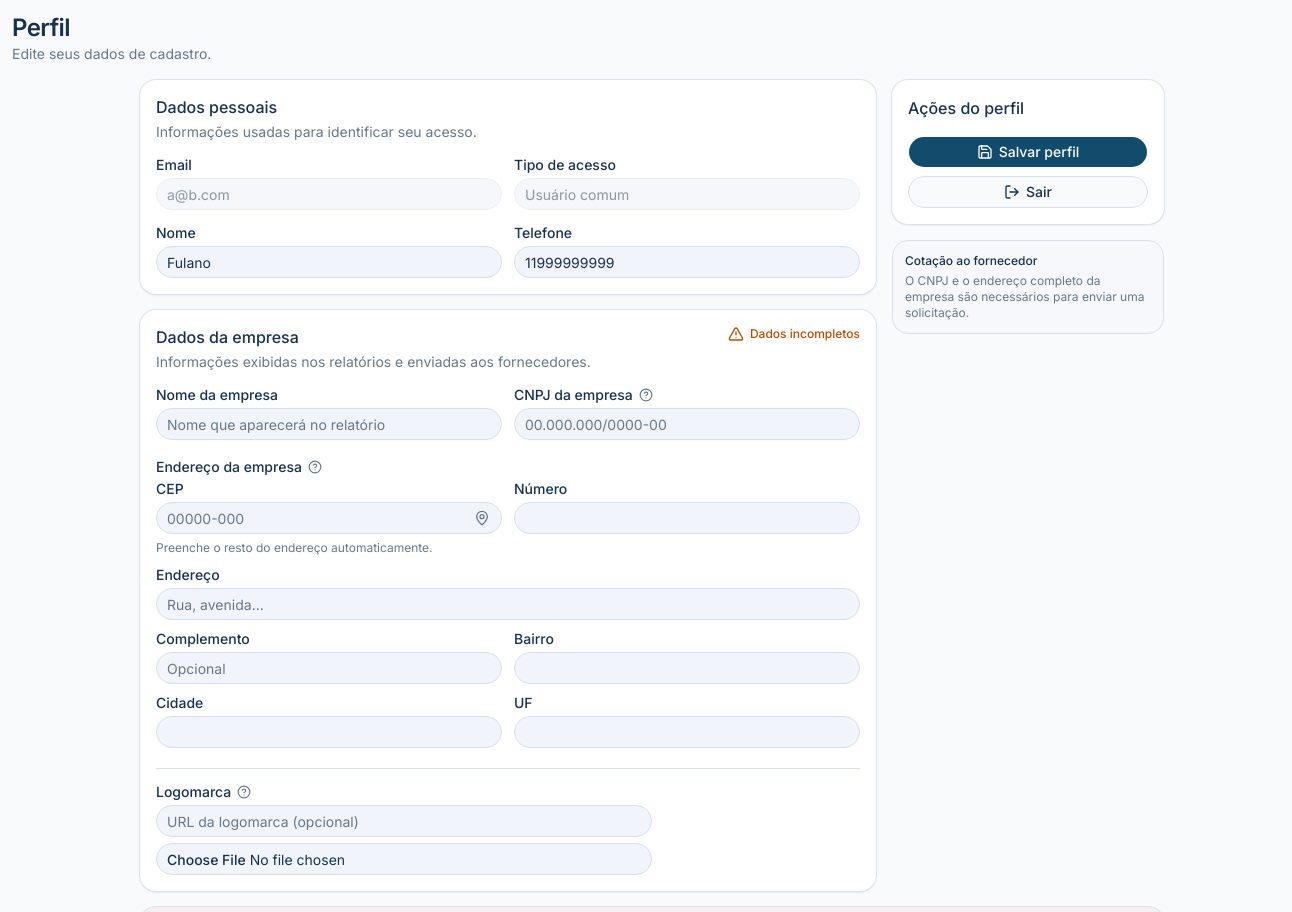
ProfileTab: fields › formats the CNPJ field as the user types
Type "12345678000195" into the field labelled "CNPJ da empresa" at point(687, 424), box [514,408,860,440]
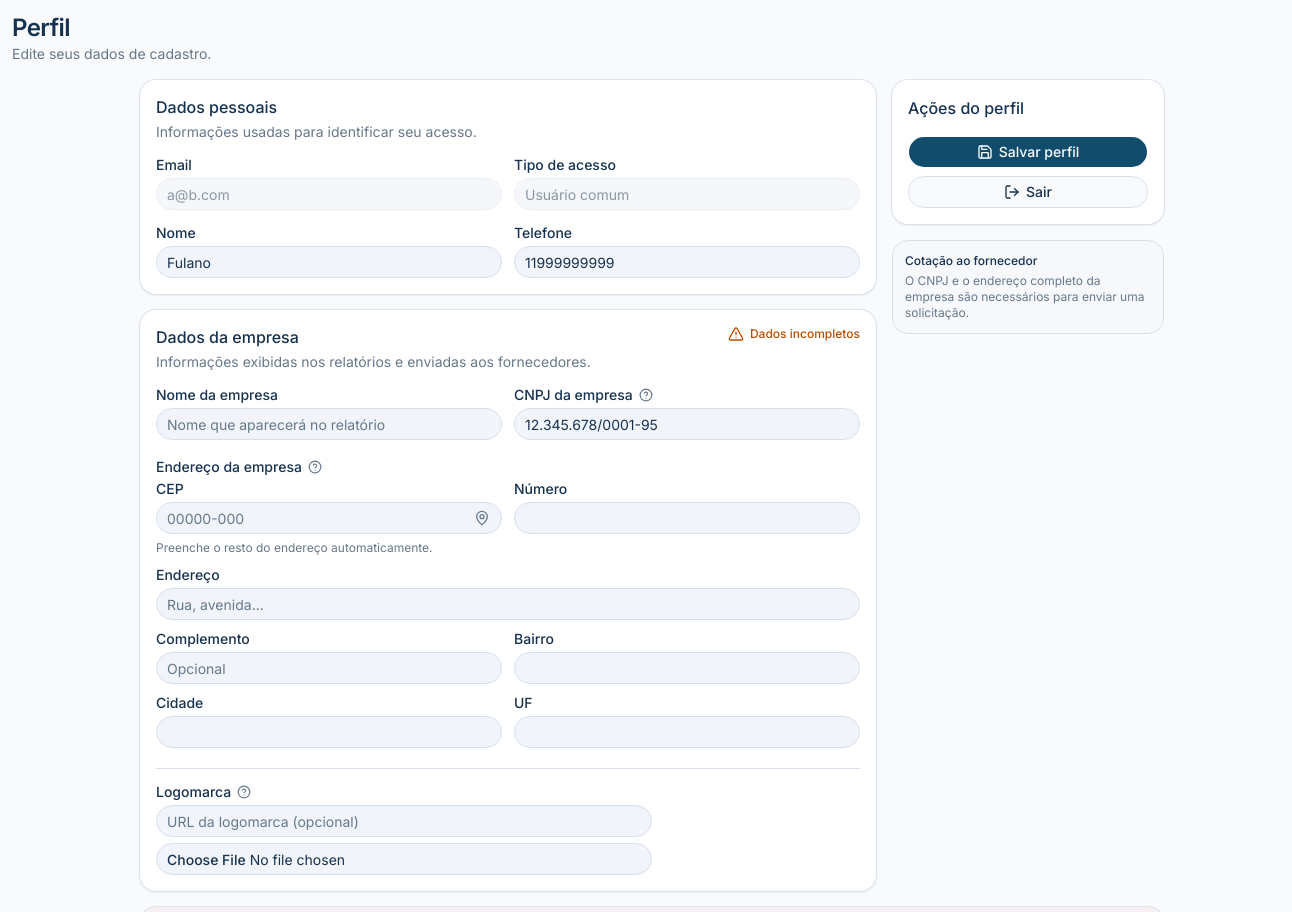
expect the field labelled "CNPJ da empresa" holds "12.345.678/0001-95": met, box [514,408,860,440]
